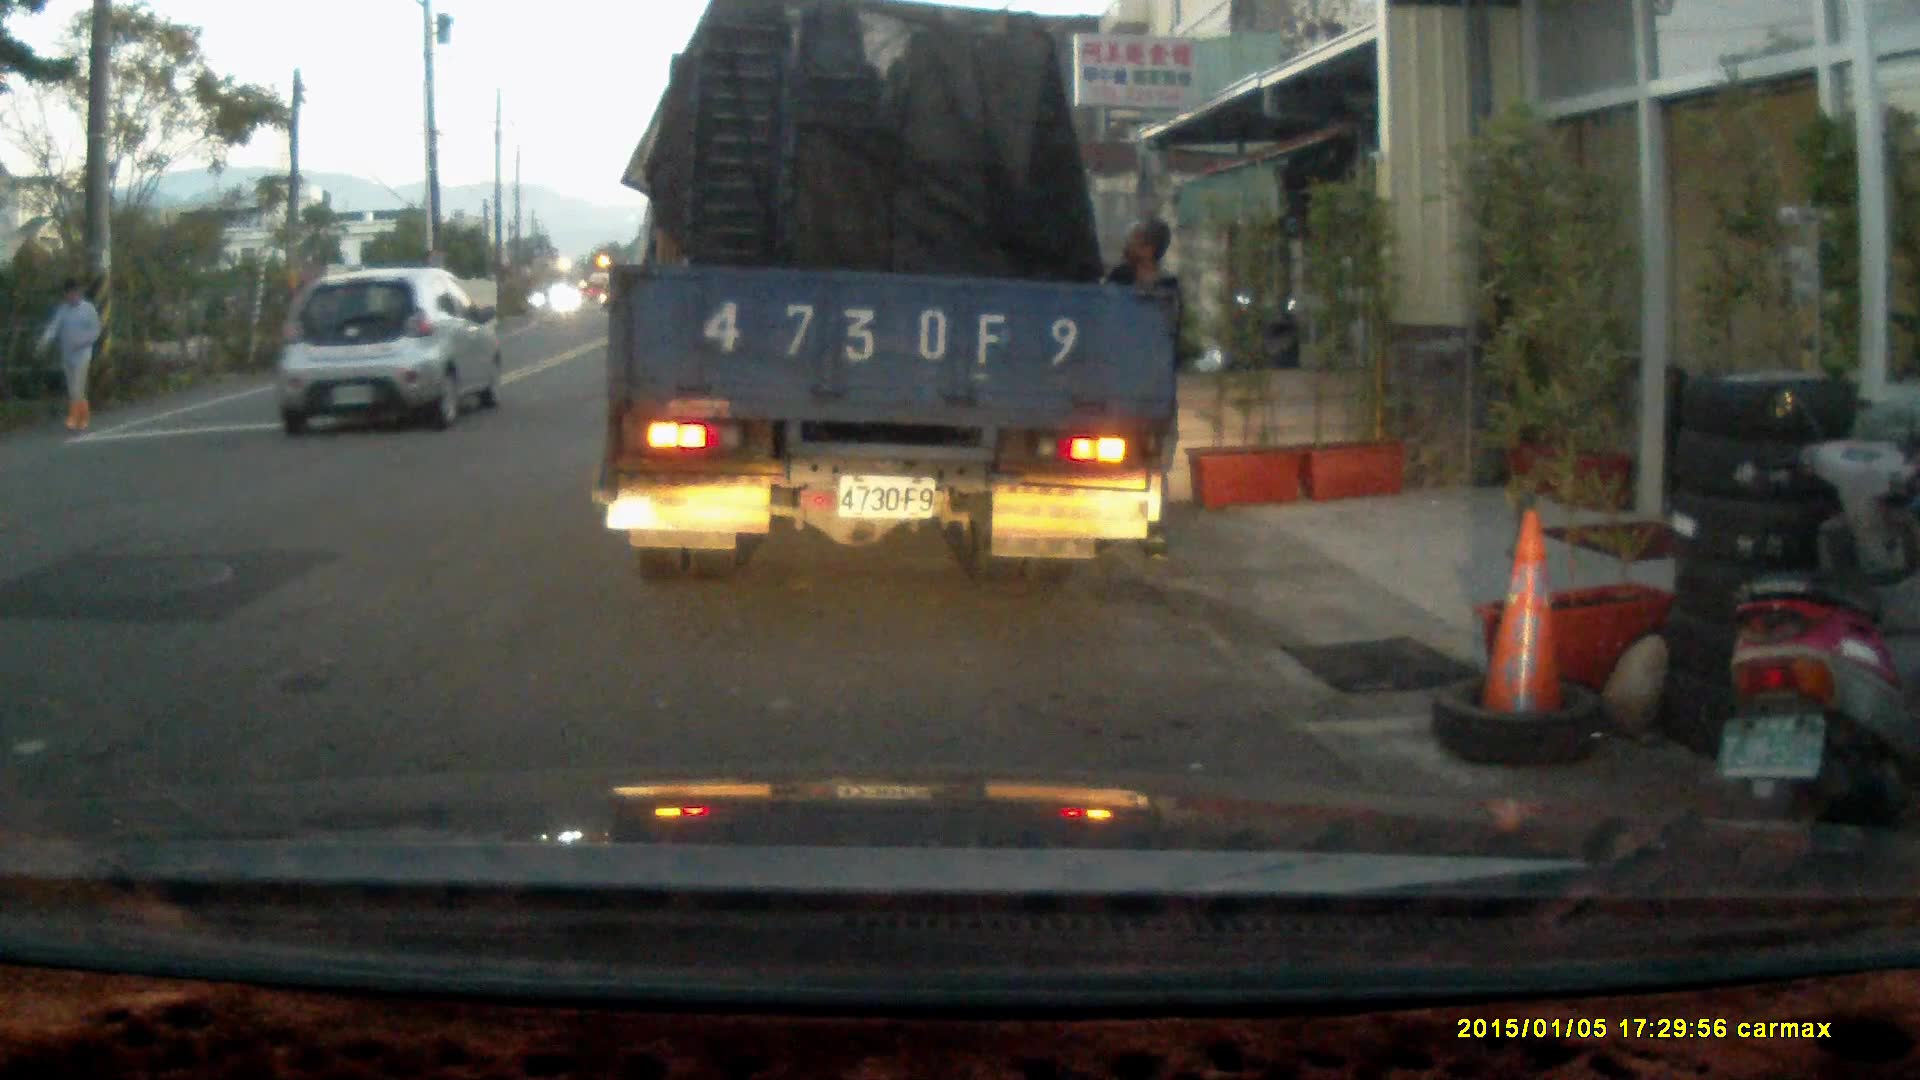pedestrian: (1086, 213, 1188, 566), (32, 277, 101, 430)
vehicle: (602, 23, 1186, 572), (275, 265, 506, 430)
